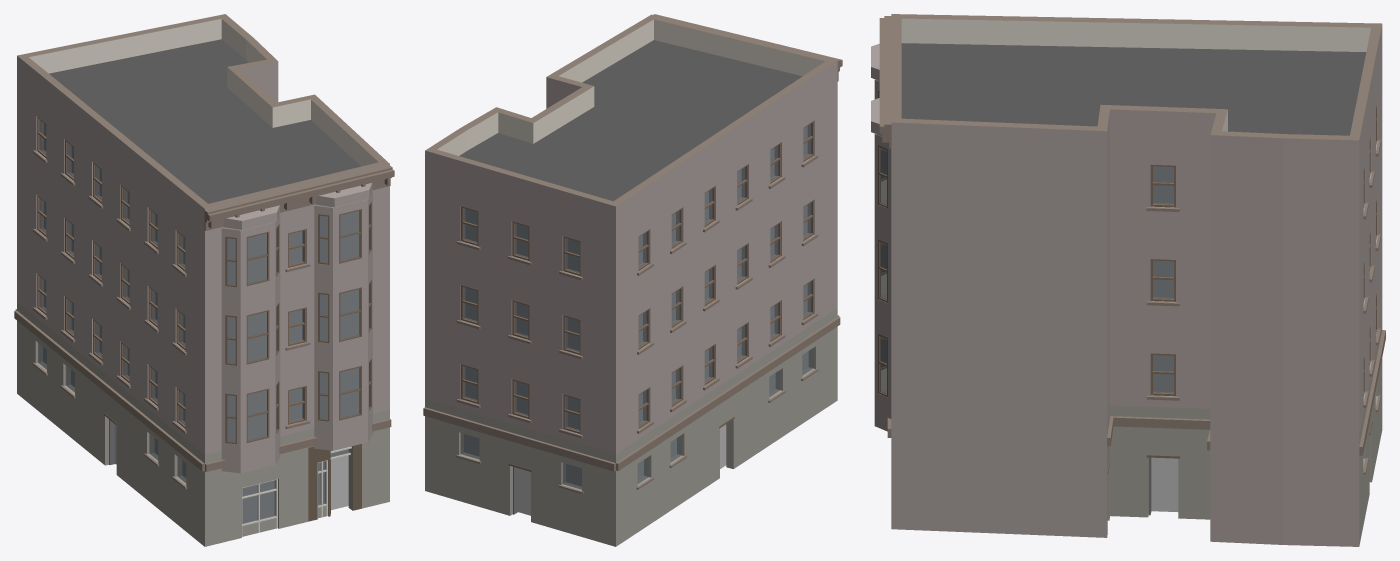
The model's file is exterior.glb.
3 renders of one model, left to right at view 1: azimuth 30°, elevation 25°; view 2: azimuth 150°, elevation 25°; view 3: azimuth 270°, elevation 25°, orthographic. The views are drawn at different scales.
Visible parts, largest first — view 1: shell, roof, bay-windows, shadow-proxy, bay-glazing, trim, glazing, frames, storefront; view 2: shell, roof, glazing, trim, shadow-proxy, frames; view 3: shell, roof, trim, bay-windows, shadow-proxy, glazing, bay-glazing, frames.
Boxes of the visible parts, <box> form: shell: <box>17,14,389,546</box>; roof: <box>49,39,360,203</box>; bay-windows: <box>221,182,372,473</box>; shadow-proxy: <box>43,123,358,523</box>; bay-glazing: <box>225,202,371,444</box>; trim: <box>14,150,394,489</box>; glazing: <box>38,120,350,523</box>; frames: <box>37,117,305,428</box>; storefront: <box>104,413,351,536</box>; shell: <box>425,14,837,546</box>; roof: <box>459,40,802,201</box>; glazing: <box>460,124,813,489</box>; trim: <box>423,14,842,494</box>; shadow-proxy: <box>464,126,808,515</box>; frames: <box>461,121,813,433</box>; shell: <box>891,14,1382,546</box>; roof: <box>901,43,1366,135</box>; trim: <box>879,16,1385,474</box>; bay-windows: <box>871,43,891,431</box>; shadow-proxy: <box>1151,166,1178,511</box>; glazing: <box>1153,166,1173,392</box>; bay-glazing: <box>875,79,887,397</box>; frames: <box>1150,105,1376,396</box>.
Size of the model in its own units: 10.04 by 14.87 by 17.06.
